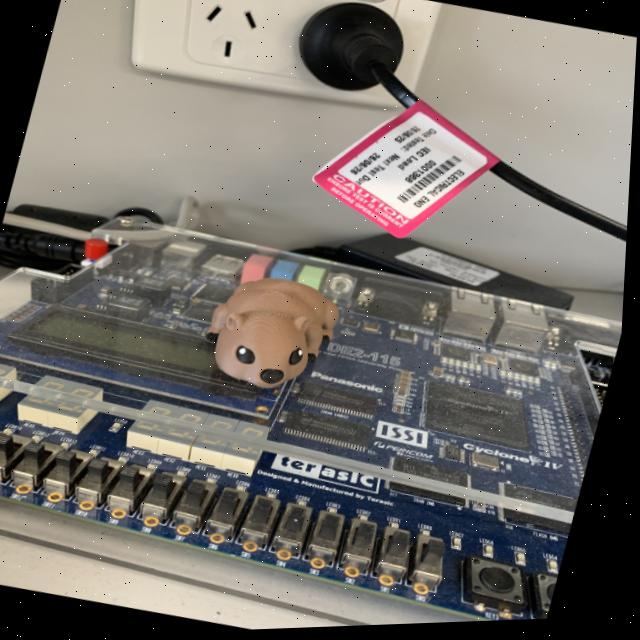wombat: (180, 258, 370, 414)
